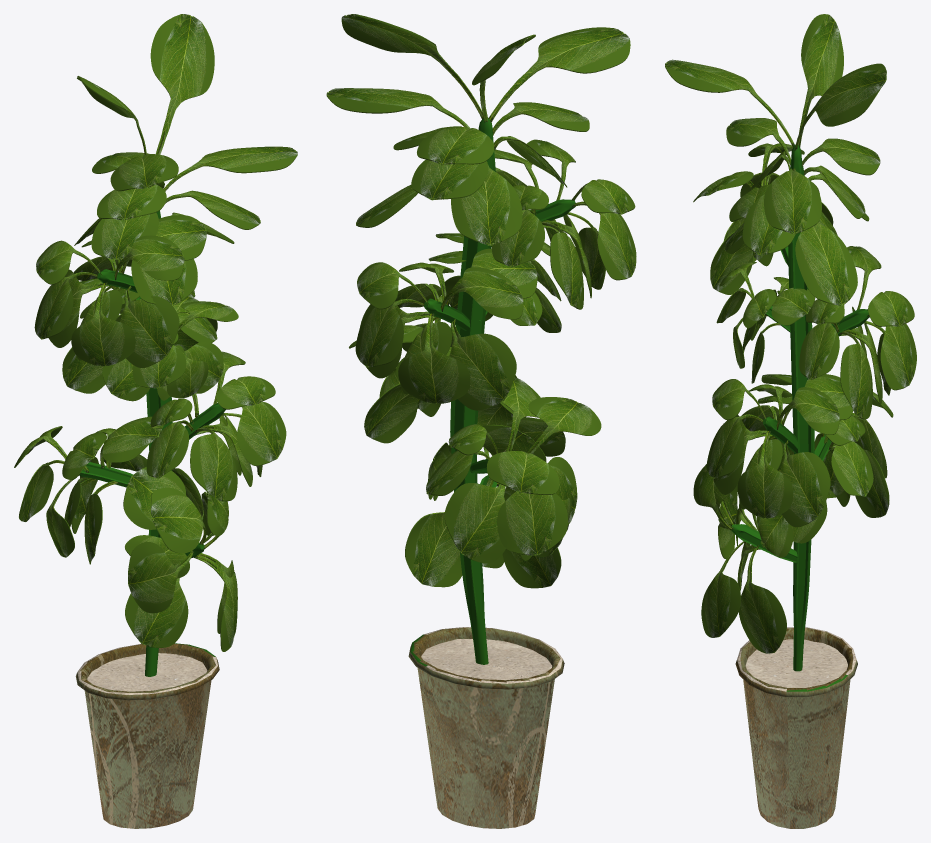
File: Plant.FBX
3 views of the same model, side by side, from view 1: azimuth 30°, elevation 25°; view 2: azimuth 150°, elevation 25°; view 3: azimuth 270°, elevation 25° (orthographic). The views are drawn at different scales.
Visible parts, largest first — view 1: Plant; view 2: Plant; view 3: Plant.
Part boxes in pixels (x1,y1,x2,y2): Plant: (14,14,297,828); Plant: (326,14,636,828); Plant: (665,14,916,828).
Size of the model in its own units: 0.1252 by 0.3336 by 0.0982.
2 materials, 2 textured.
